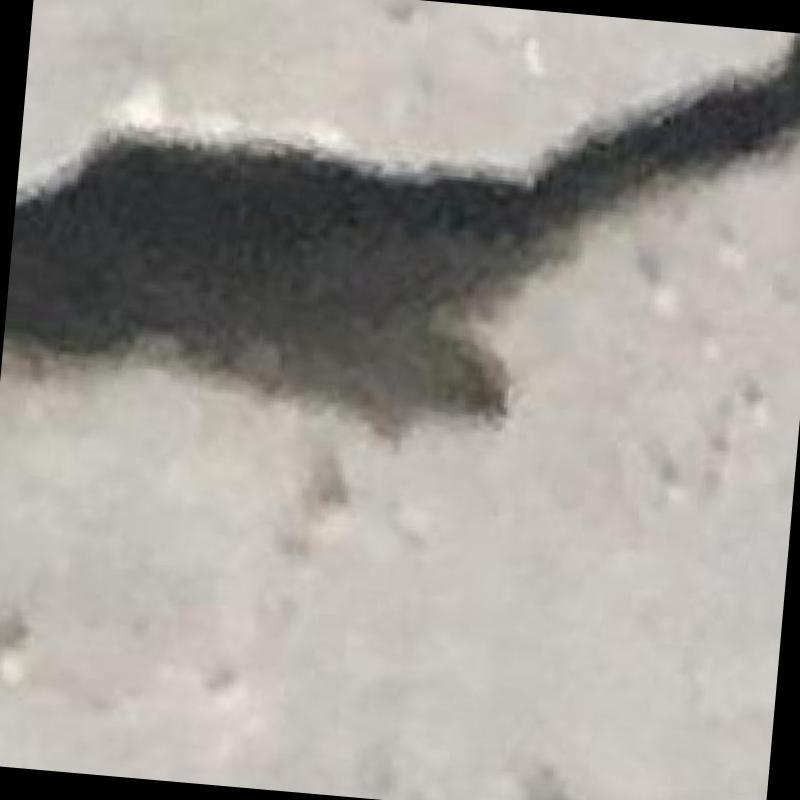crack: (4, 43, 800, 428)
